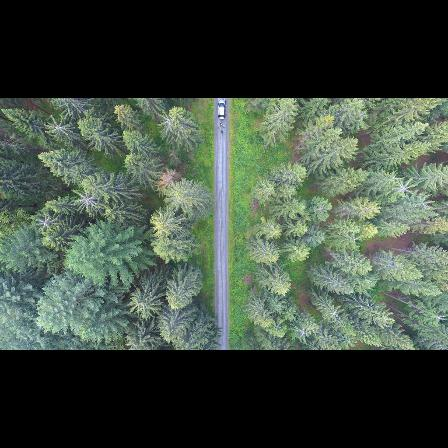Sick: (40, 116, 77, 144), (71, 189, 103, 214), (32, 209, 58, 236), (293, 322, 314, 344), (323, 304, 343, 326)
